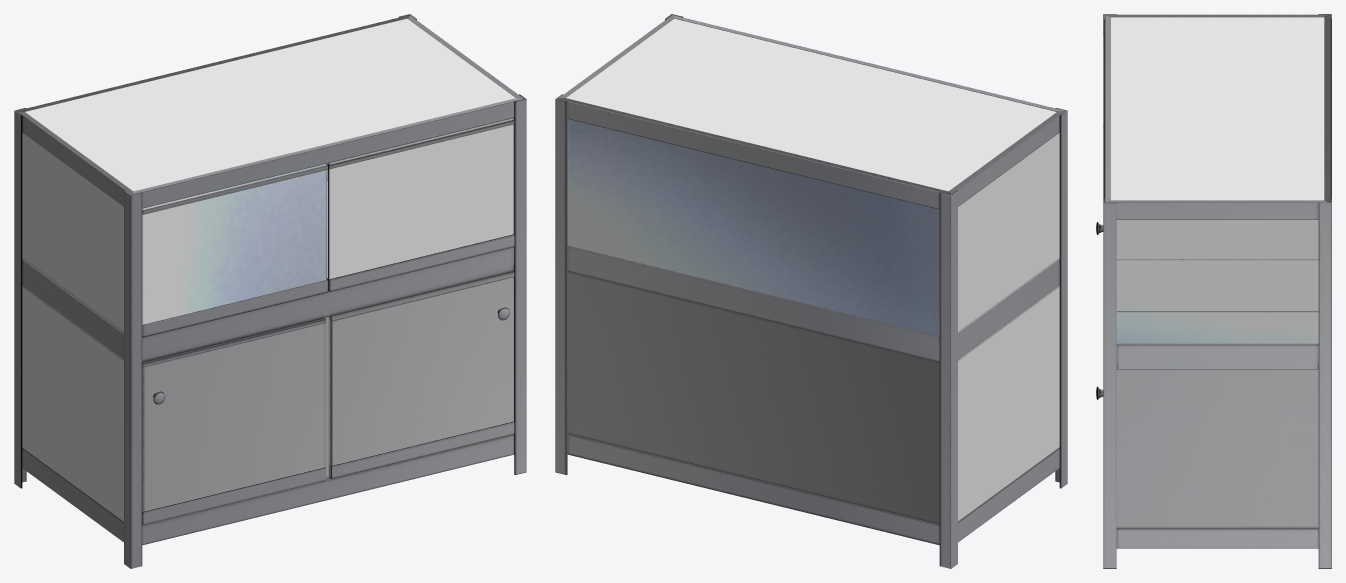
The model's file is etna_100_aluminium_coloured_aluminium_polished.glb.
3 renders of one model, left to right at view 1: azimuth 30°, elevation 25°; view 2: azimuth 150°, elevation 25°; view 3: azimuth 270°, elevation 25°, orthographic. The views are drawn at different scales.
Parts seen in each view (by area): view 1: etna_100-alu, glass; view 2: etna_100-alu, glass; view 3: glass, etna_100-alu.
Part boxes in pixels (x1,y1,x2,y2): etna_100-alu: (14,14,526,568); glass: (22,18,515,335); etna_100-alu: (555,14,1067,568); glass: (566,18,1059,336); glass: (1104,17,1324,343); etna_100-alu: (1096,14,1331,568).
Bounding box in the file's own units: 1 × 0.8999 × 0.5261.
Materials: 2 (2 with a texture image).
